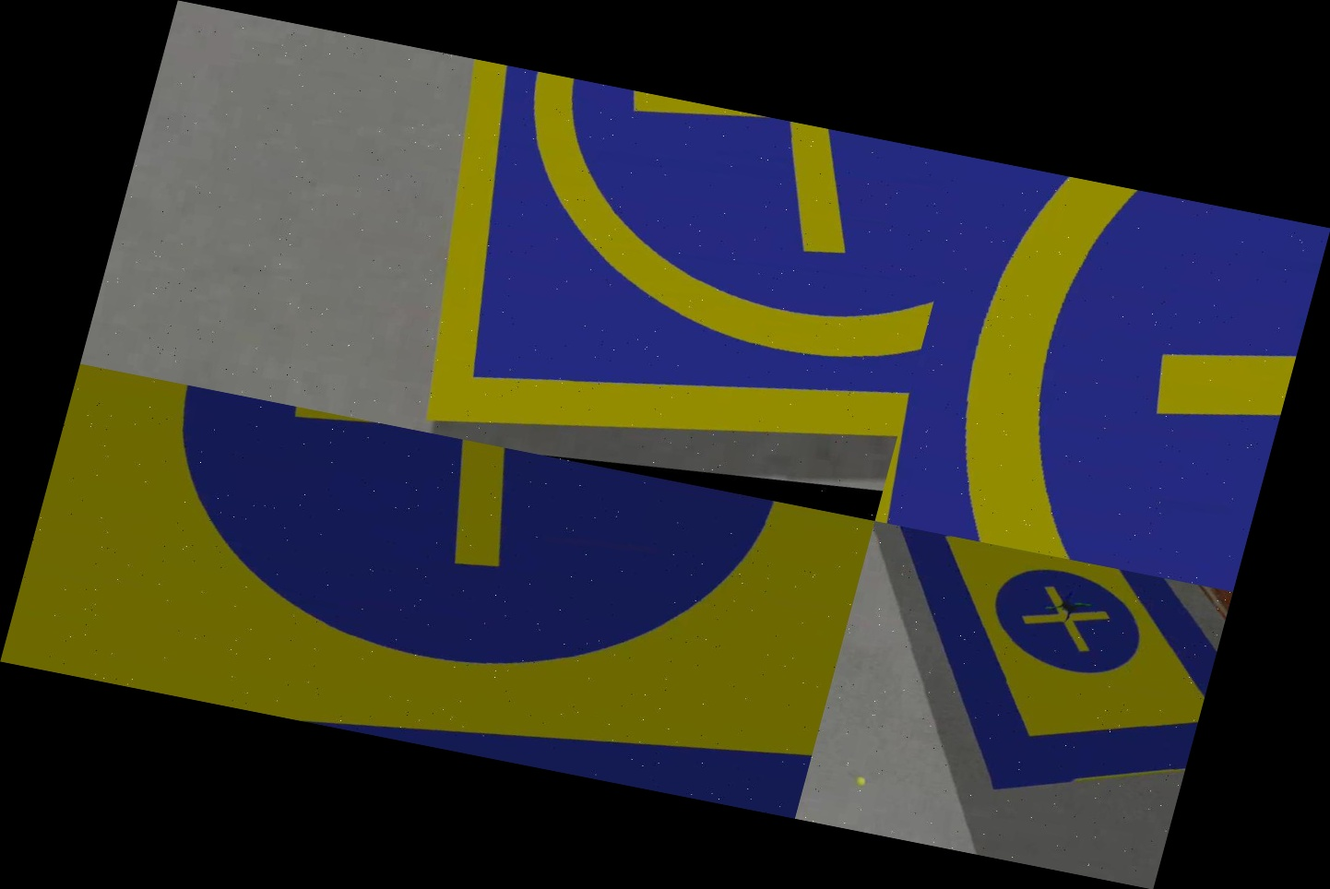large_base: (0, 364, 874, 818), (824, 524, 1232, 836)
small_base: (356, 54, 972, 509), (874, 158, 1330, 592)
